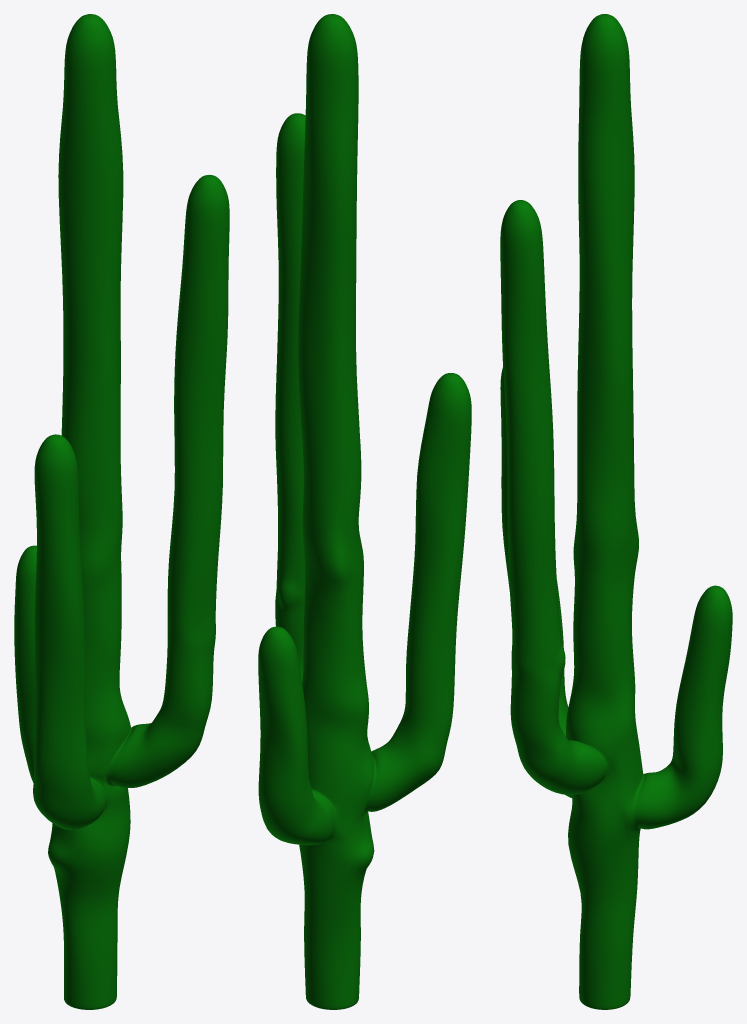
The model's file is cactus.obj.
3 renders of one model, left to right at view 1: azimuth 30°, elevation 25°; view 2: azimuth 150°, elevation 25°; view 3: azimuth 270°, elevation 25°, orthographic.
Parts seen in each view (by area): view 1: 10436_Cactus_v1_max2010_it2; view 2: 10436_Cactus_v1_max2010_it2; view 3: 10436_Cactus_v1_max2010_it2.
Boxes of the visible parts, box(x1,y1,x2,y2) form: 10436_Cactus_v1_max2010_it2: box(14, 14, 229, 1009); 10436_Cactus_v1_max2010_it2: box(258, 14, 471, 1009); 10436_Cactus_v1_max2010_it2: box(500, 14, 732, 1009).
Size of the model in its own units: 3.11 by 15.39 by 3.3.
